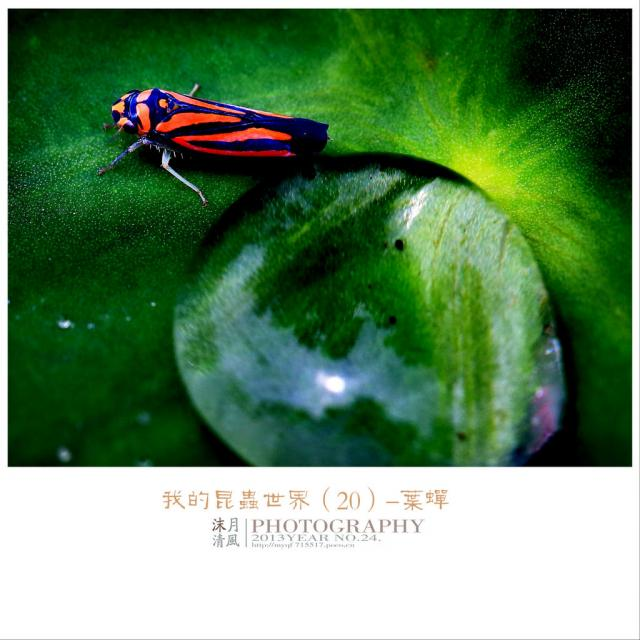Yechan: (103, 84, 330, 194)
